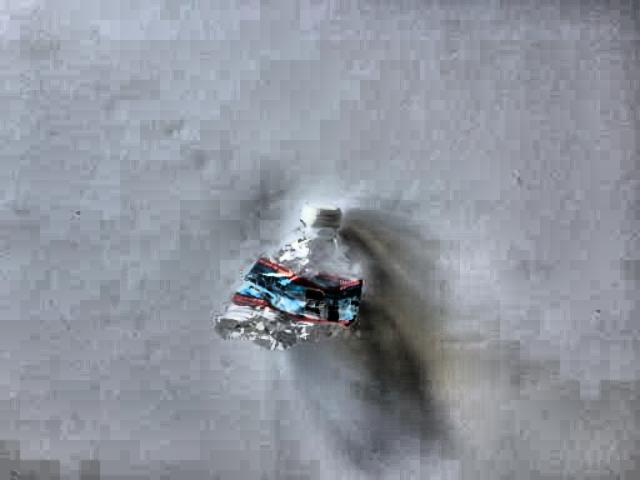Bottles: (204, 167, 389, 375)
